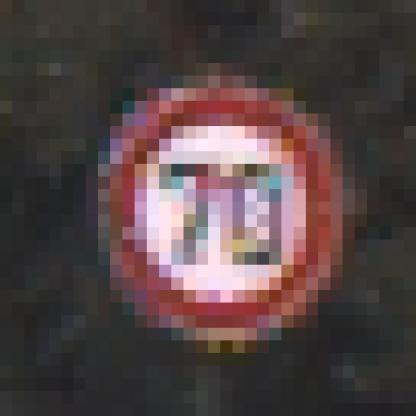Speed Limit 70: (106, 88, 340, 336)
